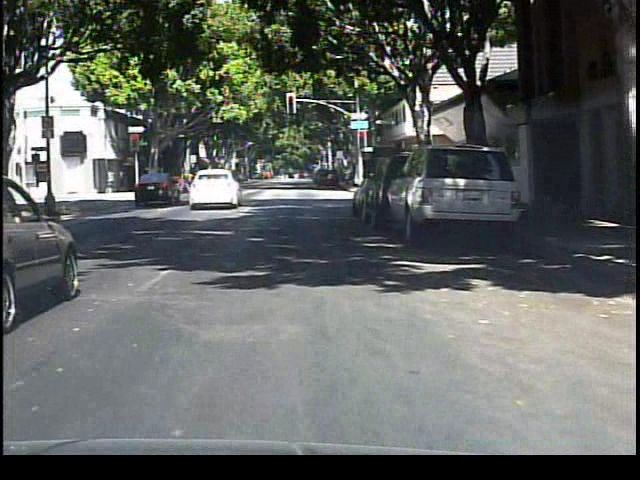person: (177, 163, 202, 202)
